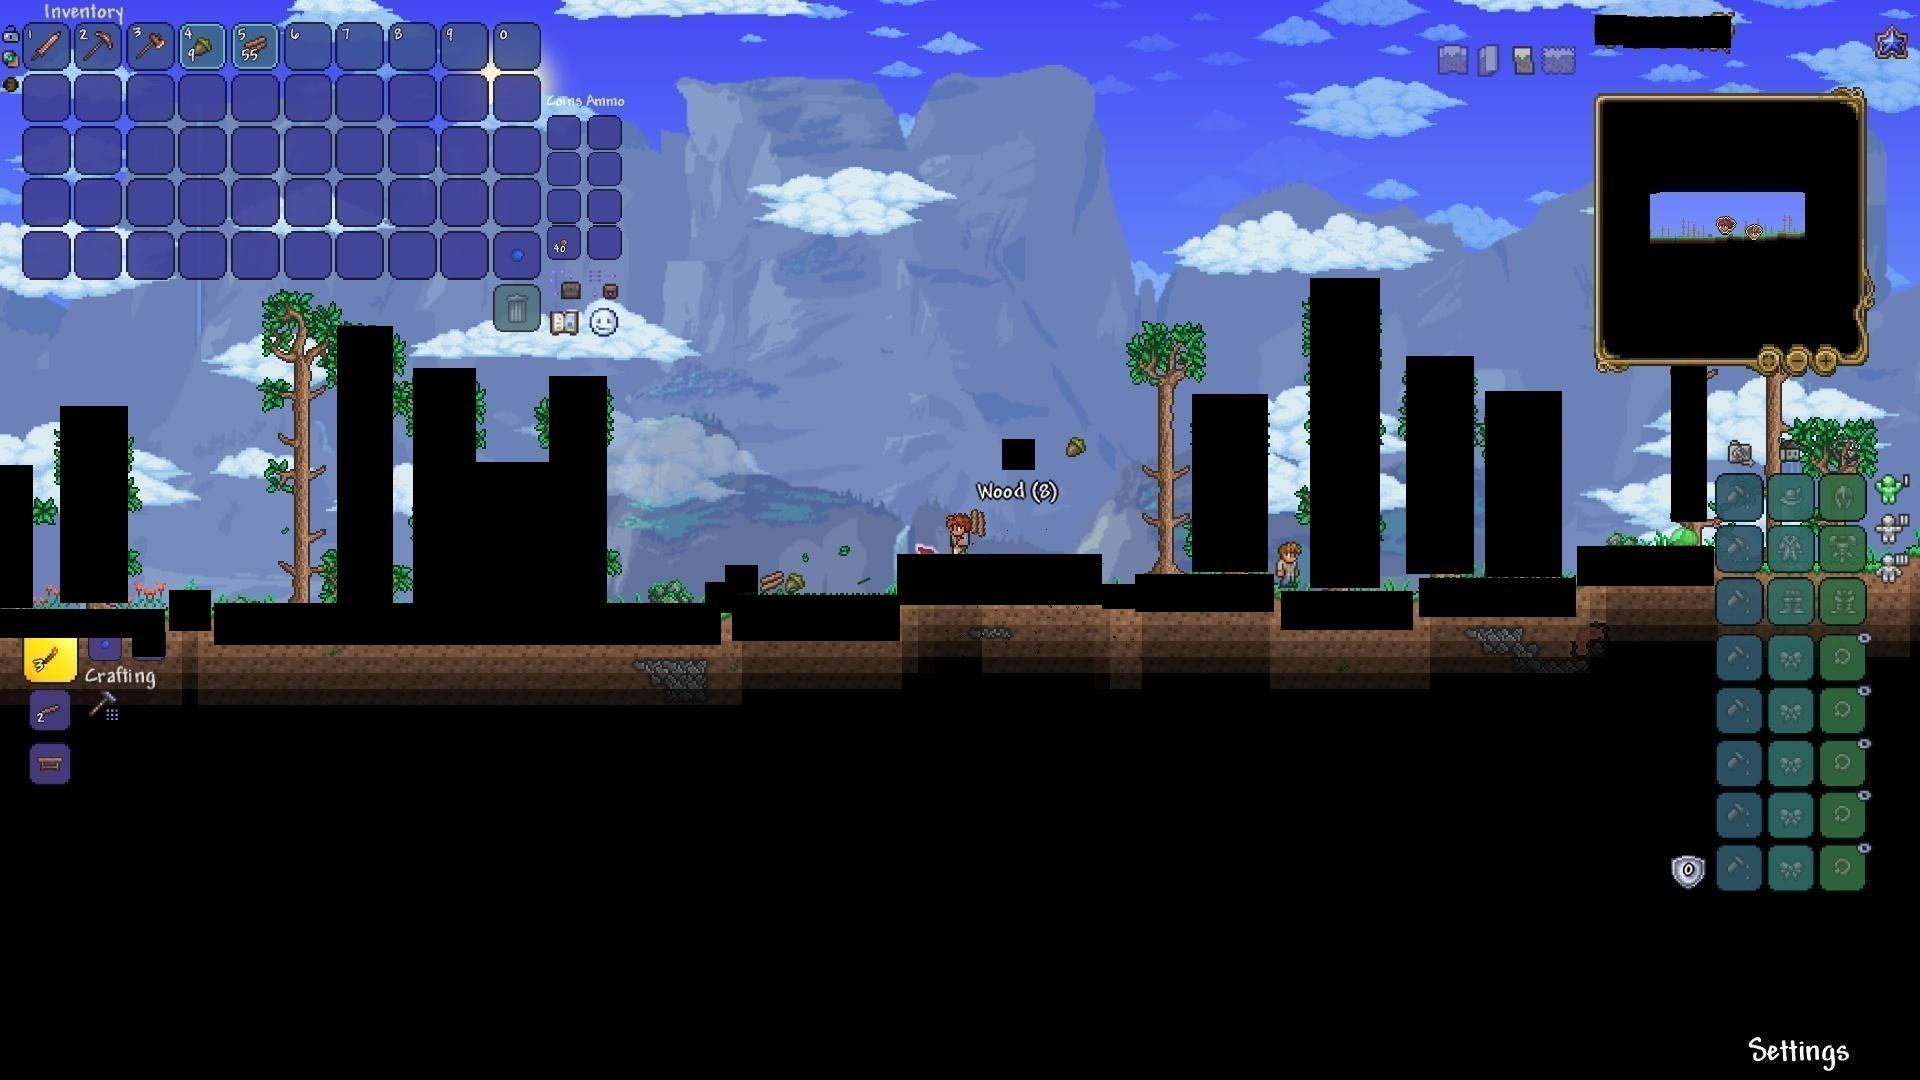slime: (1672, 525, 1697, 553)
tree: (258, 297, 323, 601), (1126, 313, 1197, 574)
wood: (235, 32, 269, 63), (758, 564, 790, 595)
workbench: (32, 748, 69, 773)
